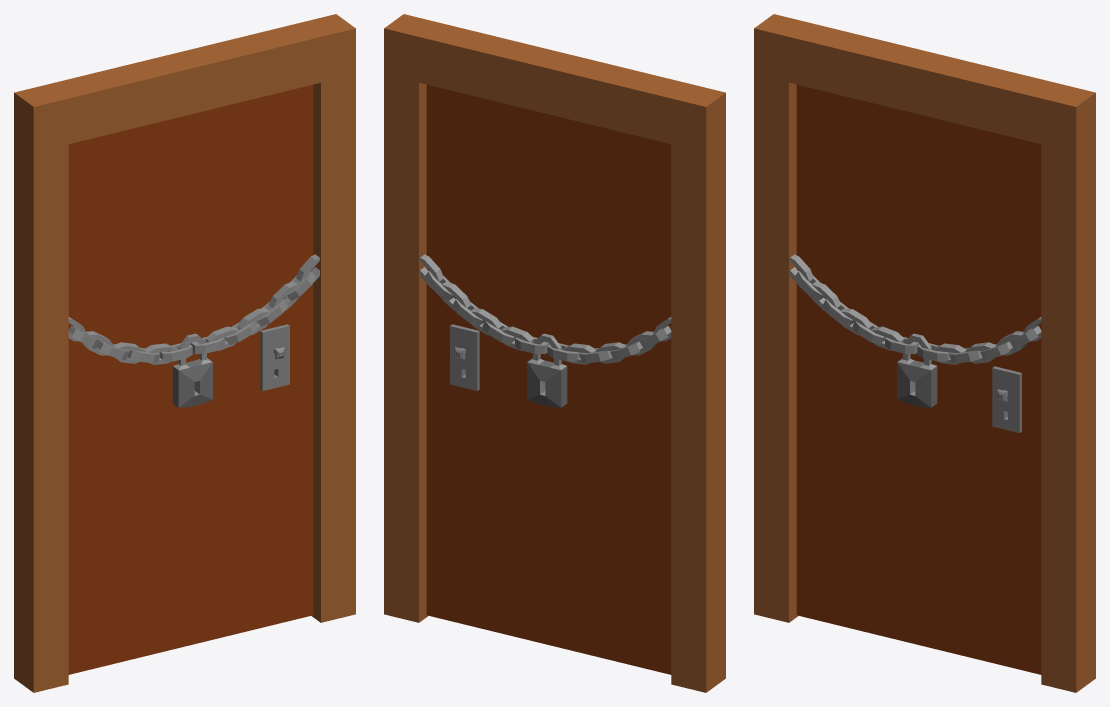
Rendered from LockedDoor.fbx.
The picture shows the model from 3 angles, left to right: view 1: azimuth 30°, elevation 25°; view 2: azimuth 150°, elevation 25°; view 3: azimuth 330°, elevation 25°; orthographic projection.
Visible parts, largest first — view 1: Cube.001, Cube, Cube.010, Cube.002; view 2: Cube.001, Cube, Cube.010, Cube.002; view 3: Cube.001, Cube, Cube.010, Cube.002.
Part boxes in pixels (left/top/right/bottom): Cube.001: left=68, top=84, right=313, bottom=674; Cube: left=14, top=14, right=355, bottom=692; Cube.010: left=68, top=254, right=319, bottom=364; Cube.002: left=172, top=333, right=212, bottom=407; Cube.001: left=426, top=84, right=671, bottom=674; Cube: left=384, top=14, right=725, bottom=692; Cube.010: left=420, top=254, right=671, bottom=364; Cube.002: left=527, top=333, right=567, bottom=407; Cube.001: left=796, top=84, right=1041, bottom=674; Cube: left=754, top=14, right=1095, bottom=692; Cube.010: left=790, top=254, right=1041, bottom=364; Cube.002: left=897, top=333, right=937, bottom=407.
Bounding box in the file's own units: 1132 × 1969 × 151.
